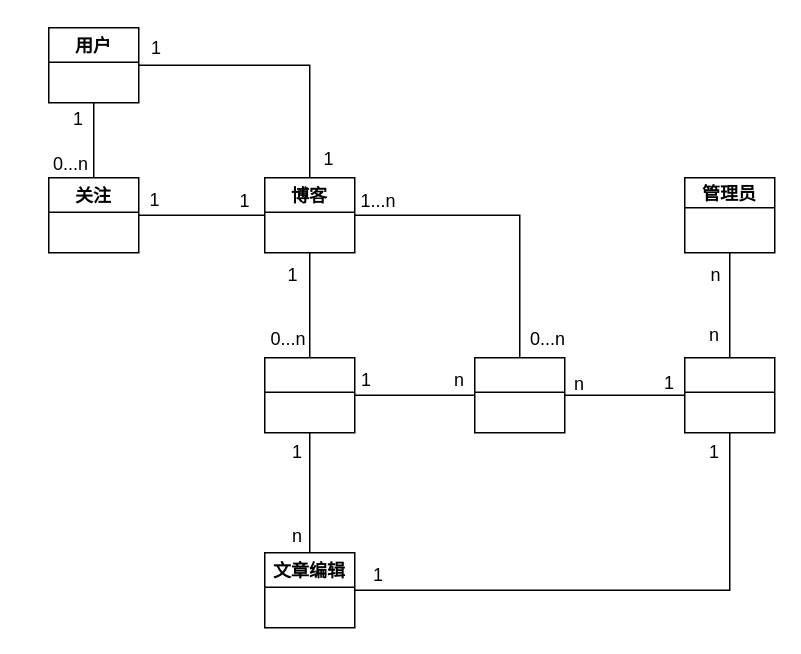
The diagram is 801 pixels wide and 654 high, and some of its shapes have lost their labels. The shapes that lost their labels are listed below. From the top down, each one's centre as x and y in pixels, then its label:
At (x=309, y=394): "文章".
At (x=519, y=394): "文章评论".
At (x=729, y=394): "审核".
